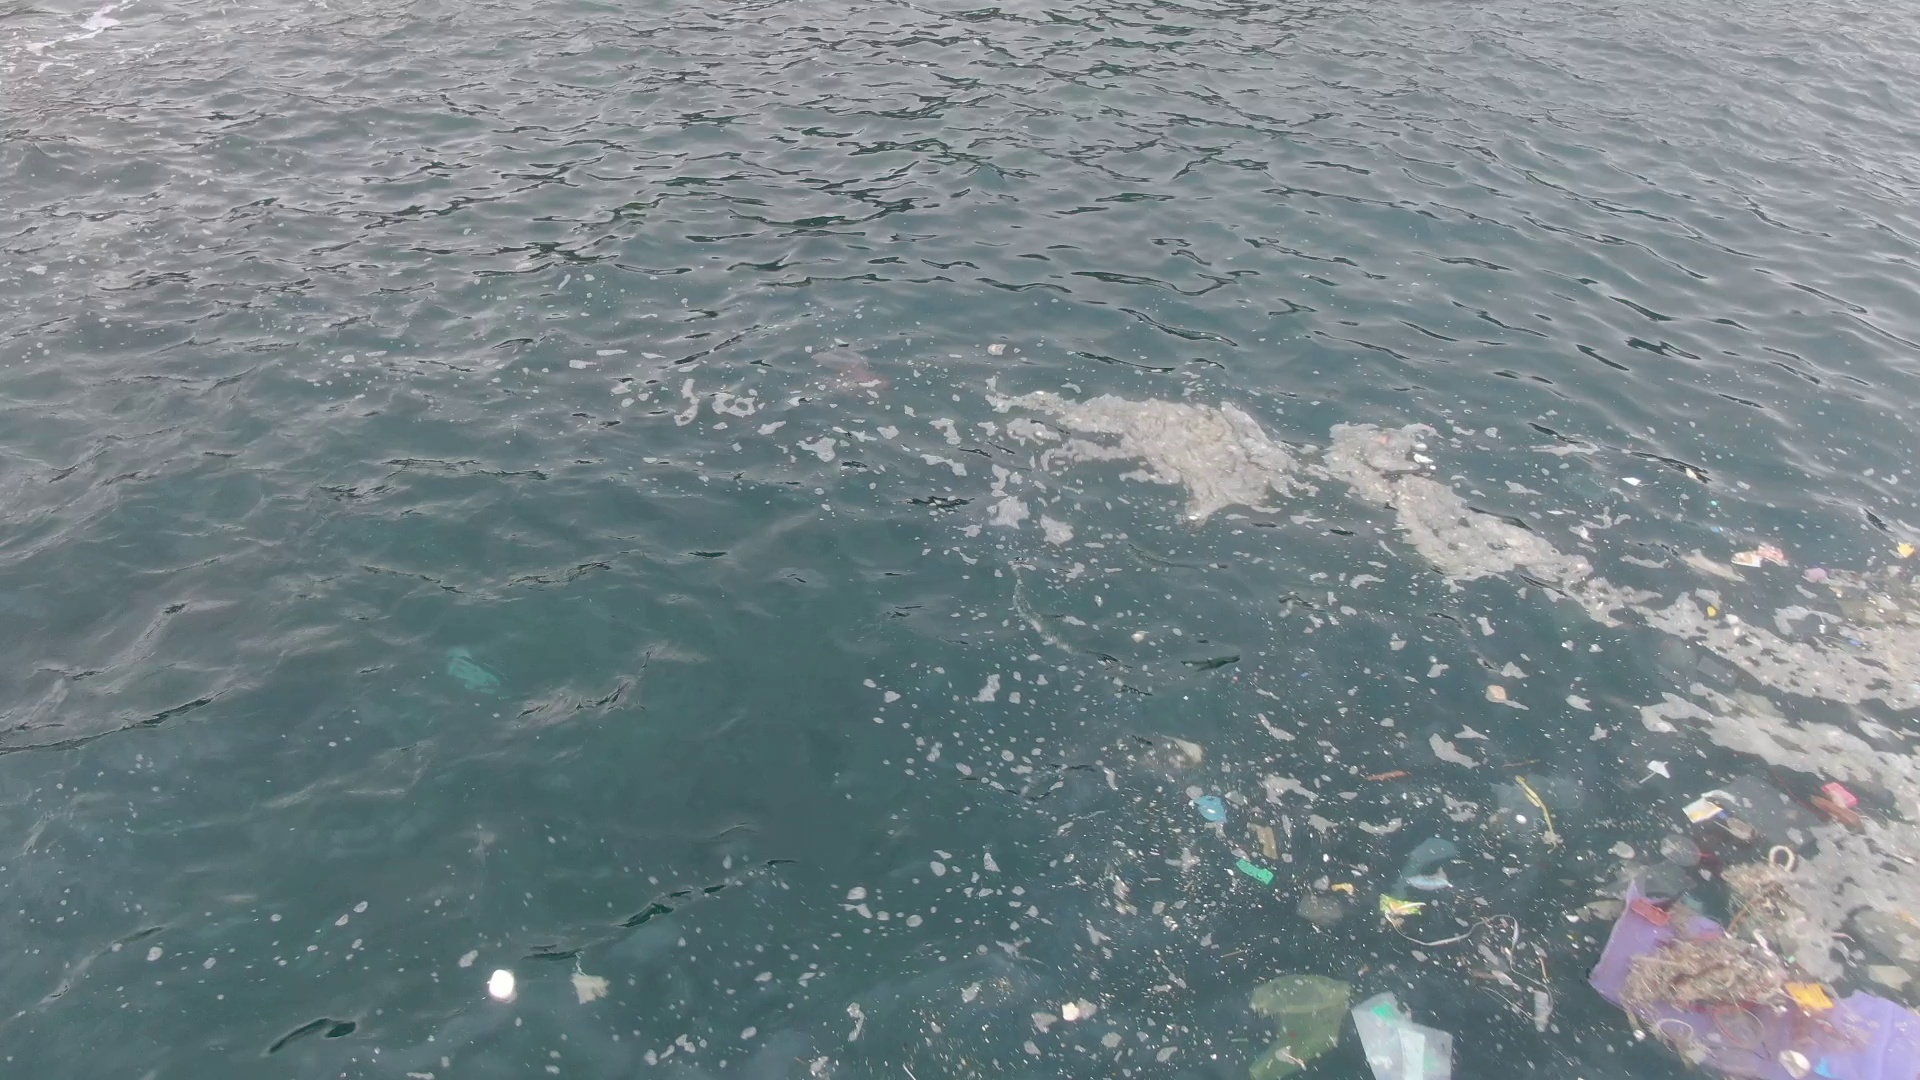garbage: (1598, 775, 1920, 1076), (1244, 973, 1346, 1077), (1352, 992, 1453, 1080), (1193, 793, 1280, 887), (1396, 839, 1460, 938), (1737, 539, 1787, 574), (489, 967, 517, 1004)
